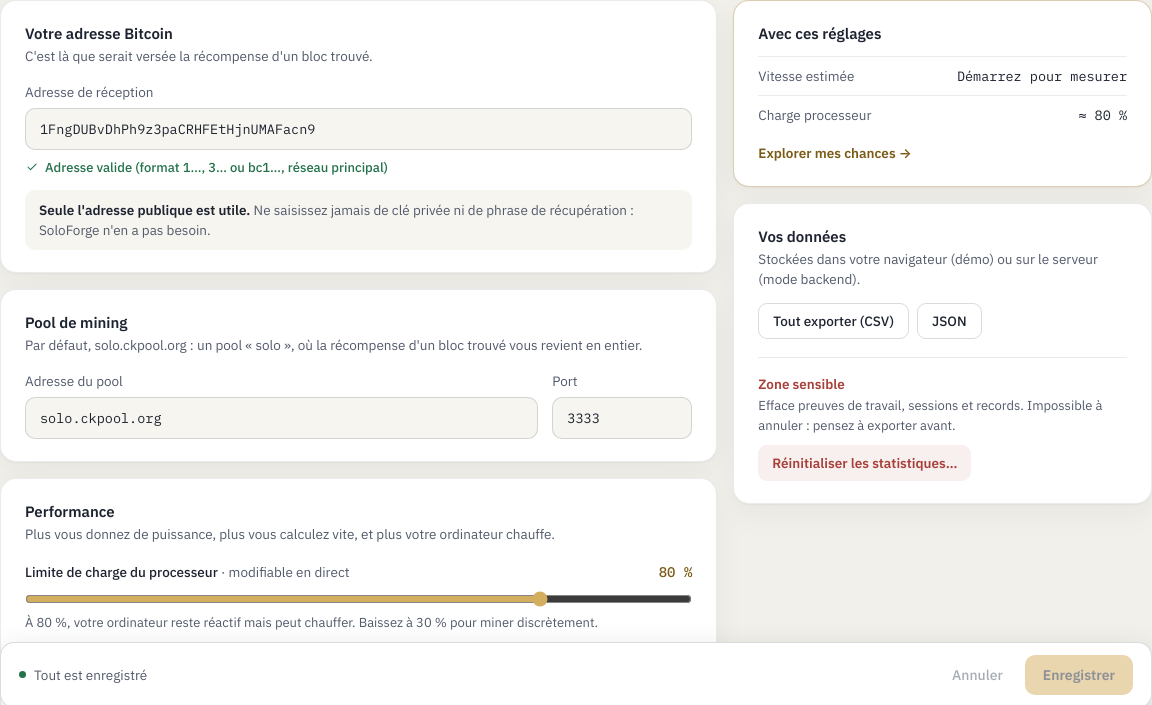
Test: ConfigScreen › describes the CPU limit in words
Expected: the text "À 80 %, votre ordinateur reste réactif" is shown, x1=25 y1=614 x2=598 y2=631
Set the slider labelled "Limite de charge du processeur · modifiable en direct" to "100" at (684, 599), box x1=25 y1=591 x2=692 y2=607
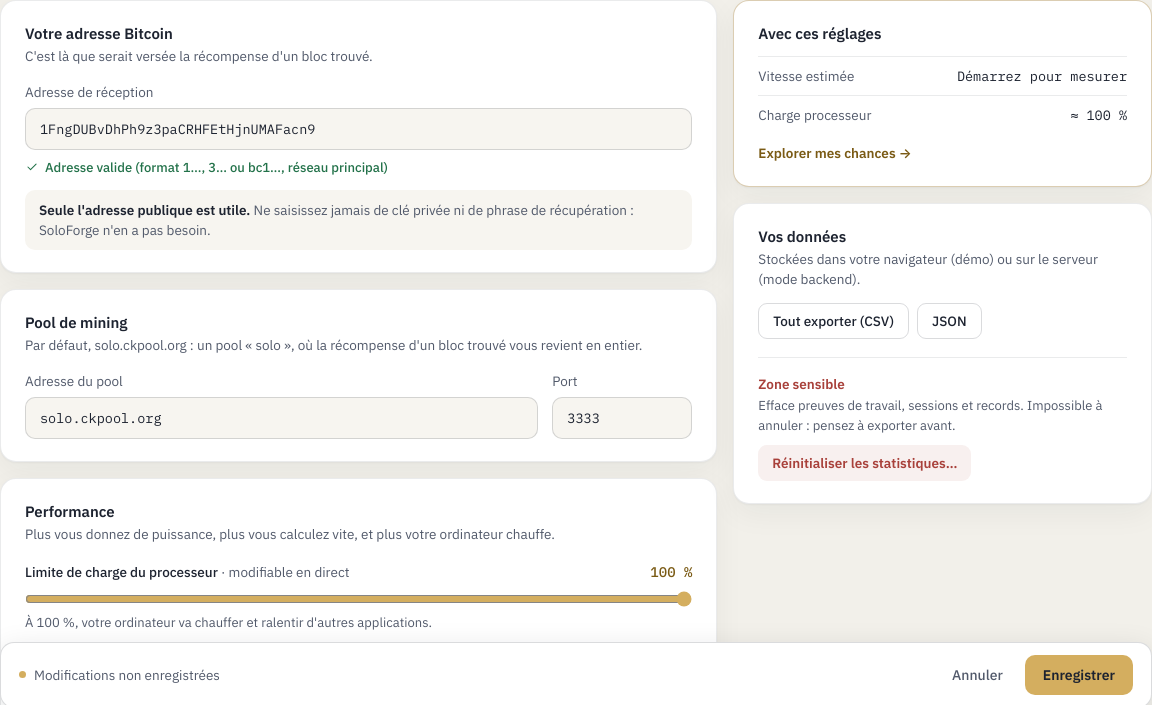
Result: the text "À 100 %, votre ordinateur va chauffer" is shown at x1=25 y1=614 x2=432 y2=631
Set the slider labelled "Limite de charge du processeur · modifiable en direct" to "30" at (178, 599), box x1=25 y1=591 x2=692 y2=607
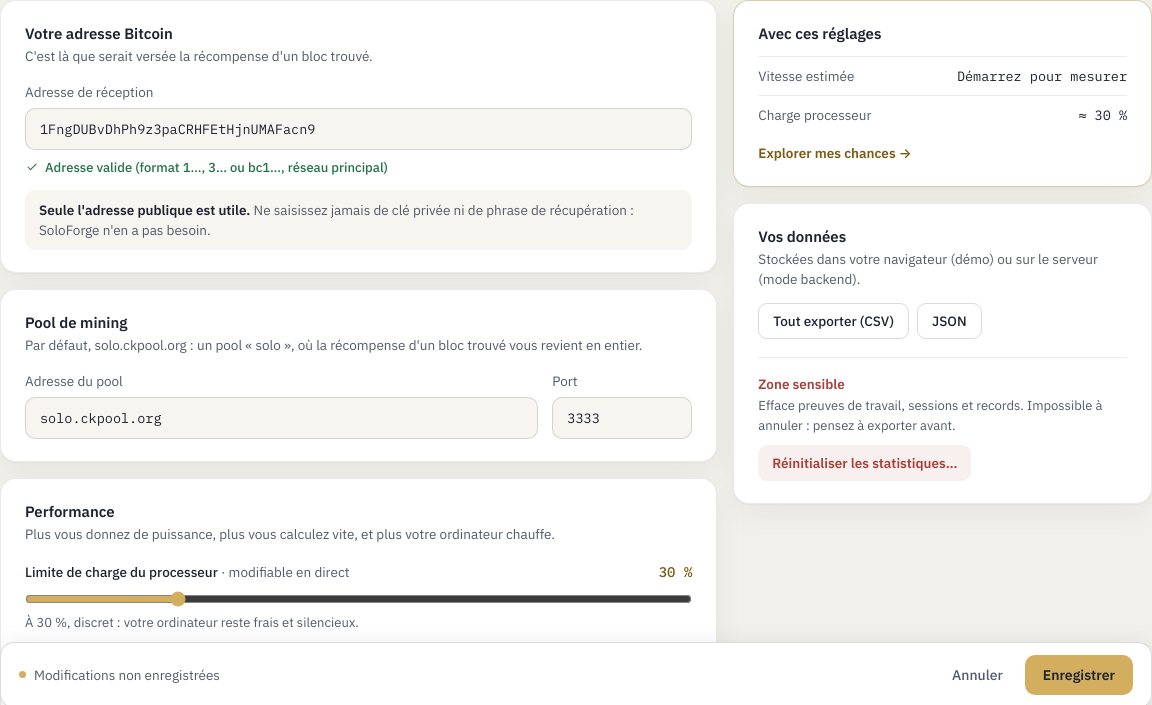
Result: the text "À 30 %, discret" is shown at x1=25 y1=614 x2=359 y2=631
